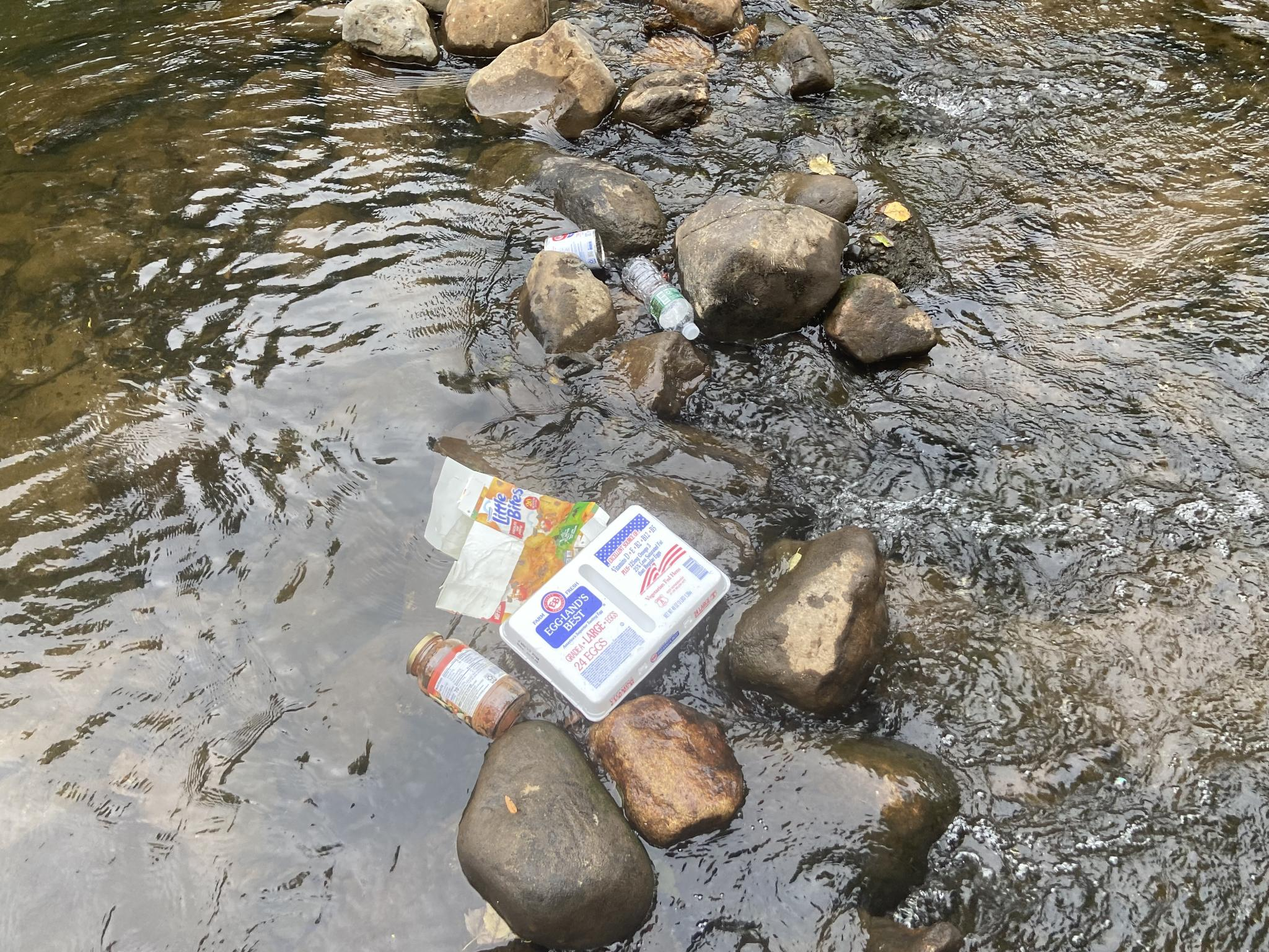cardboard: (416, 454, 612, 634)
glass: (402, 627, 533, 747)
metal: (541, 224, 613, 274)
plastic: (499, 495, 738, 731), (616, 245, 704, 348)
